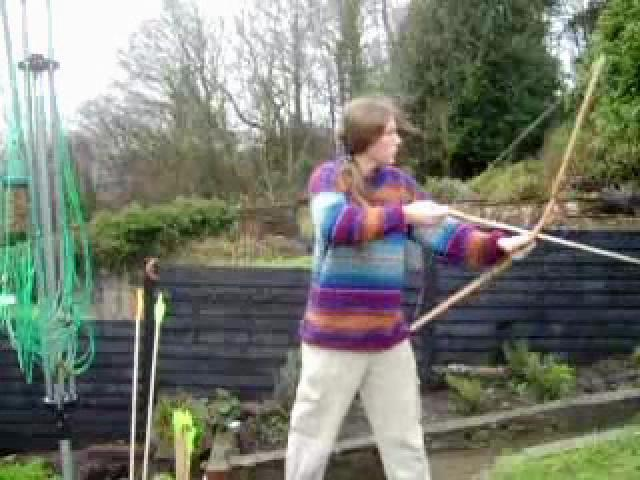I: (281, 97, 545, 480)
